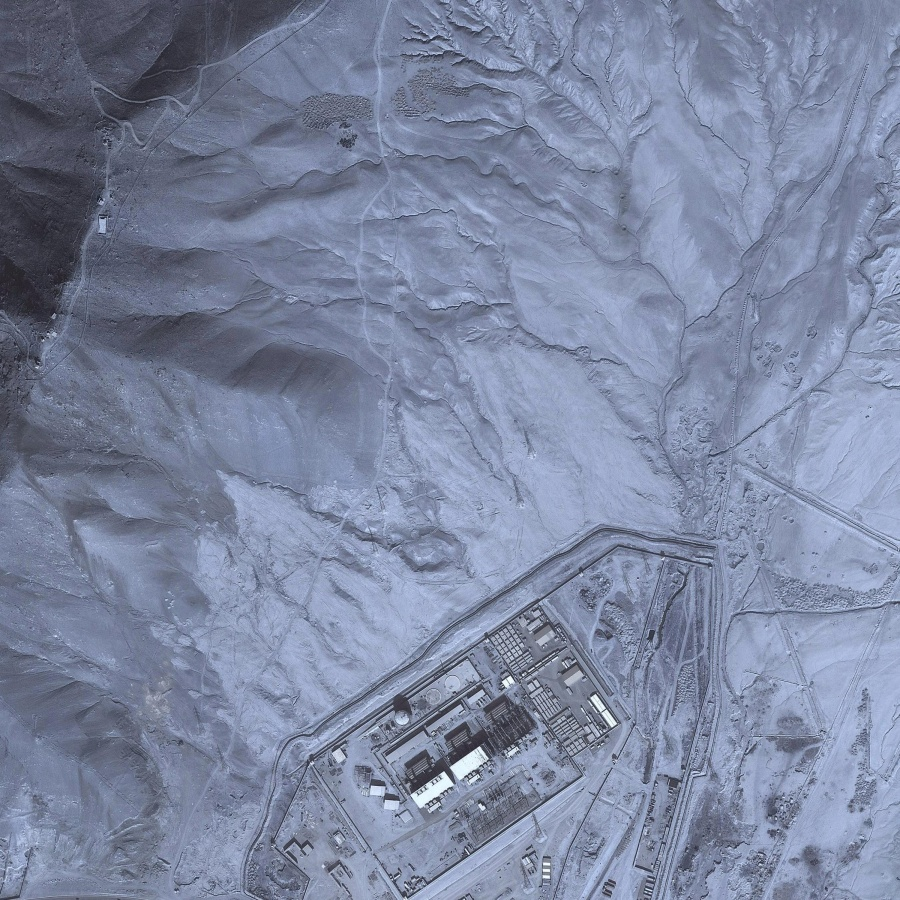PowerPlant: (368, 628, 617, 812)
